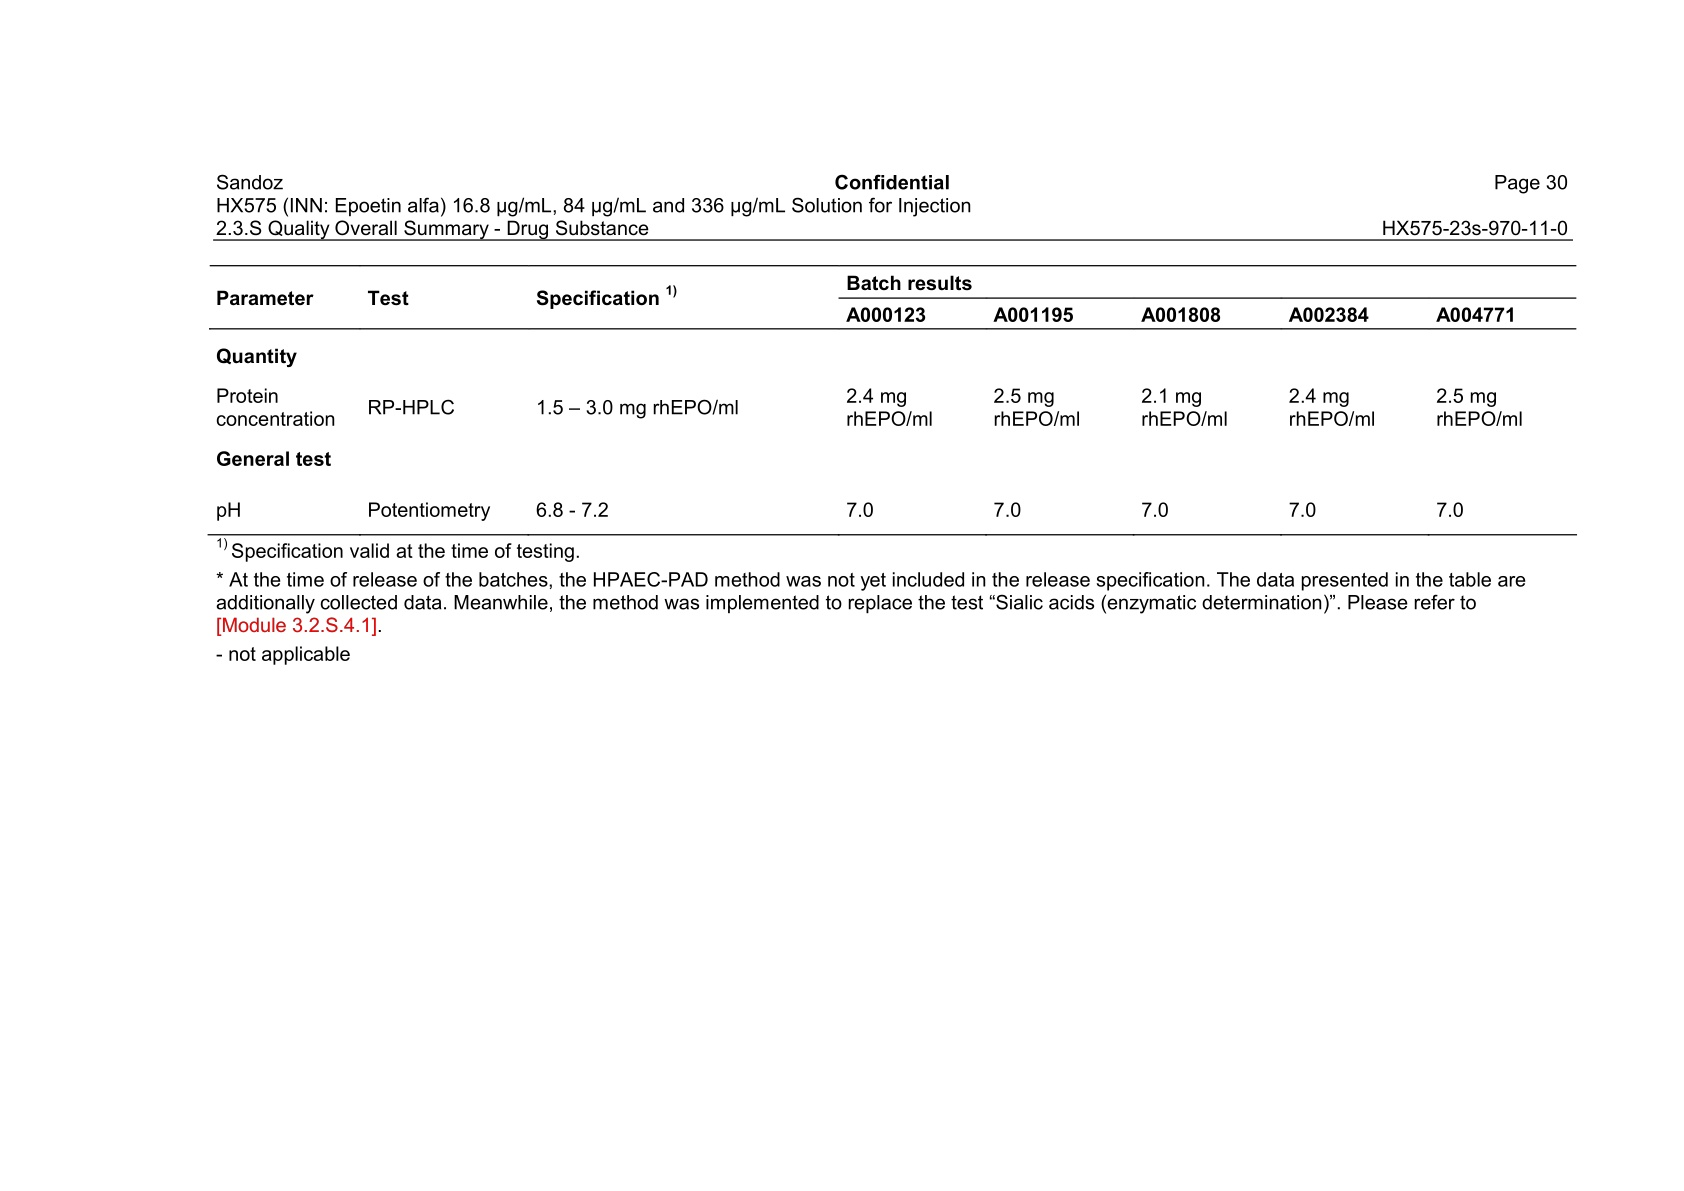partial_lined_merged_cells: (207, 262, 1580, 537)
